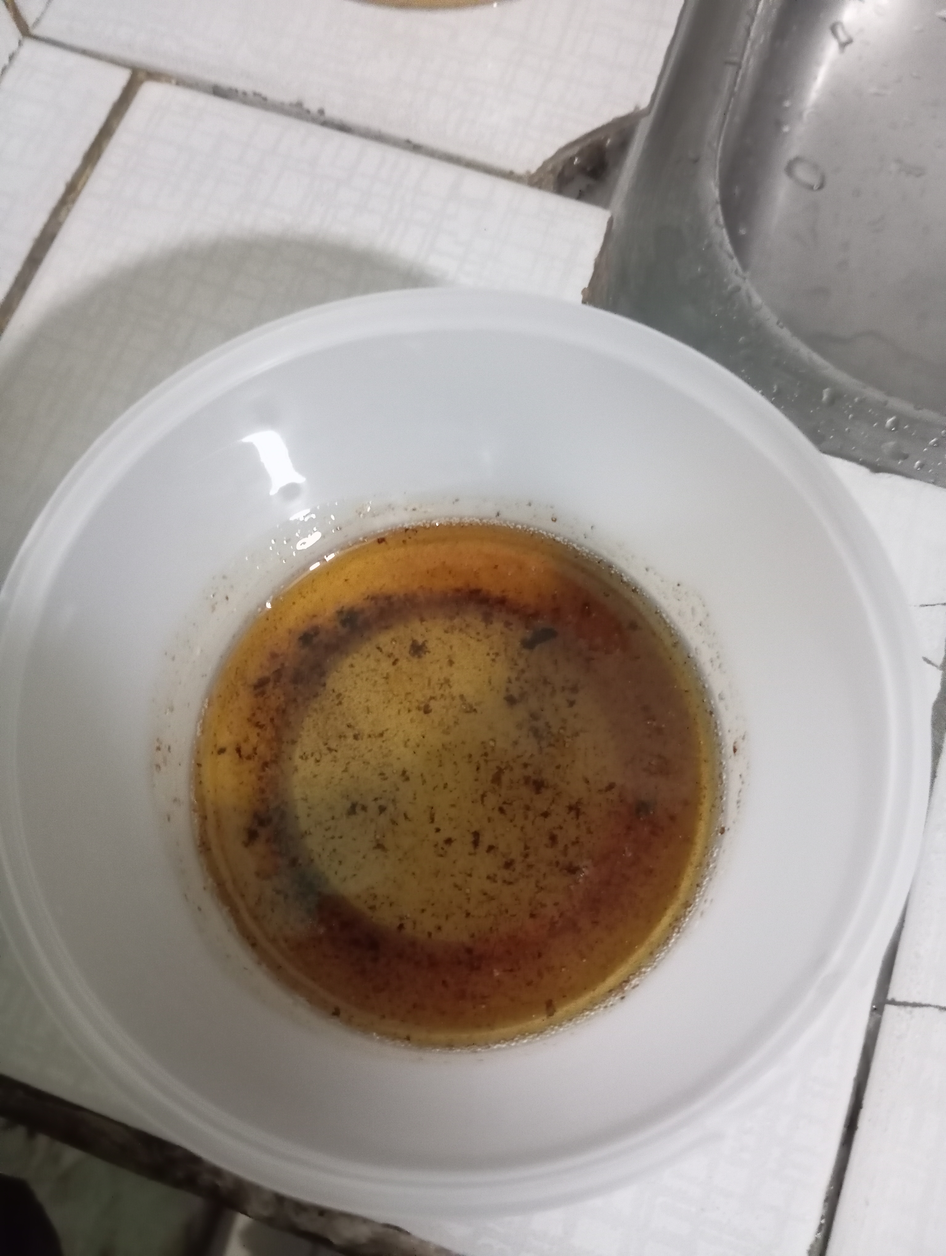non-reusable: (200, 526, 721, 1047)
